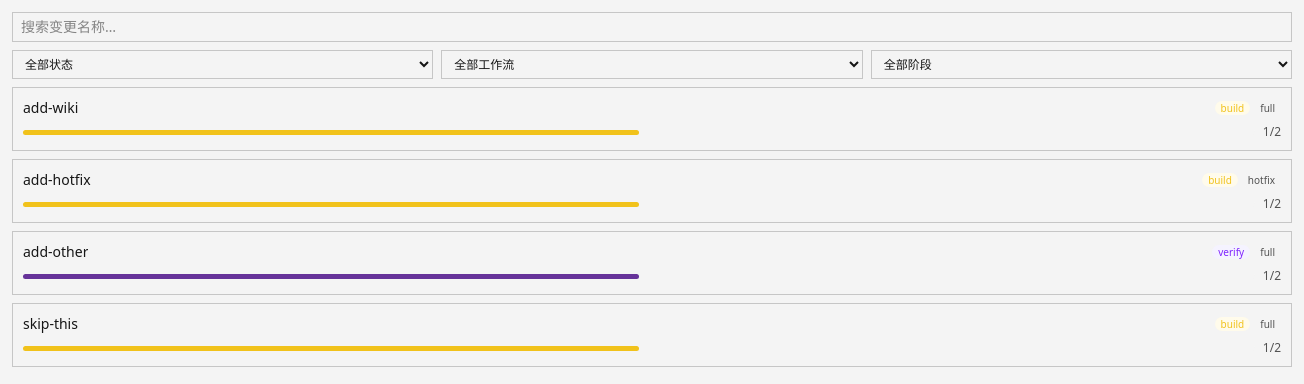
ChangeExplorer › applies search + workflow + phase filters as an intersection
In the field with placeholder "搜索变更名称…": {"x": 652, "y": 27} [12, 12, 1292, 42], type "add"
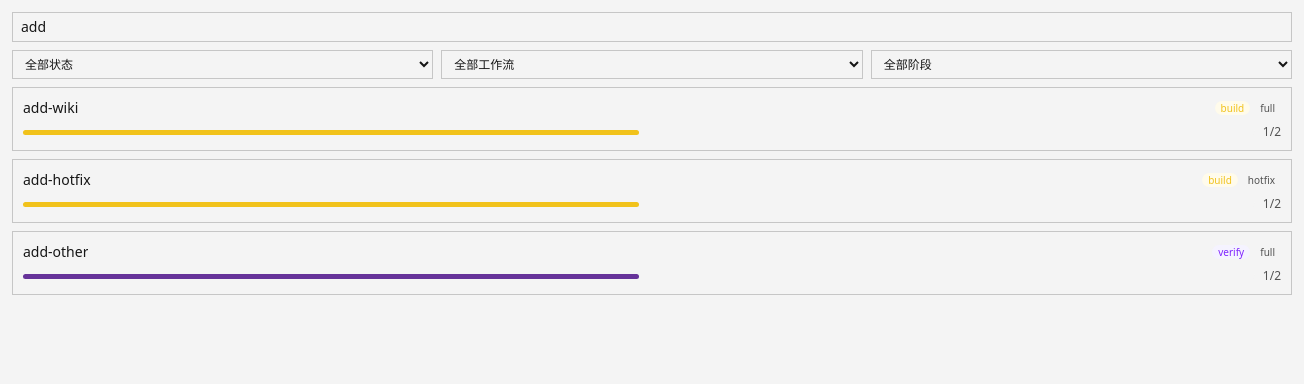
Select "full" in the dropdown named "工作流": {"x": 652, "y": 64} [441, 50, 863, 79]
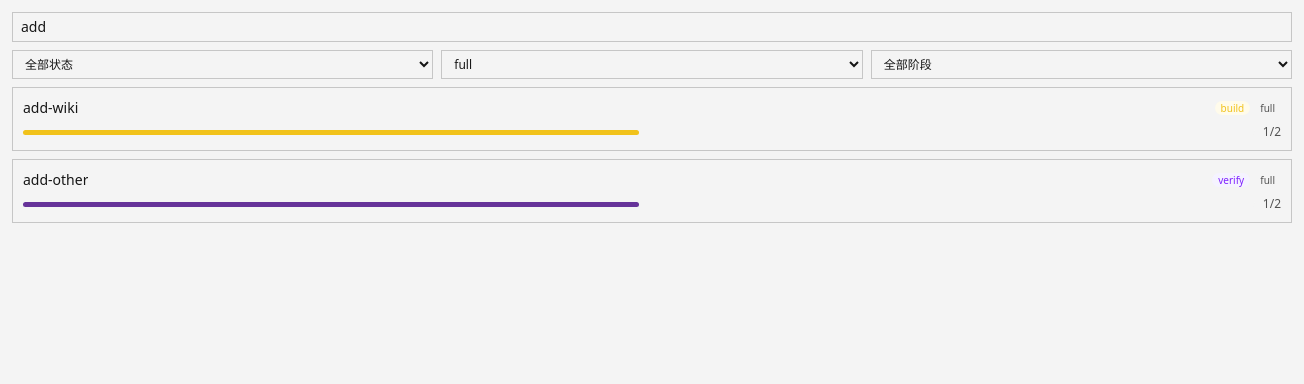
Select "build" in the dropdown named "阶段": {"x": 1081, "y": 64} [871, 50, 1292, 79]
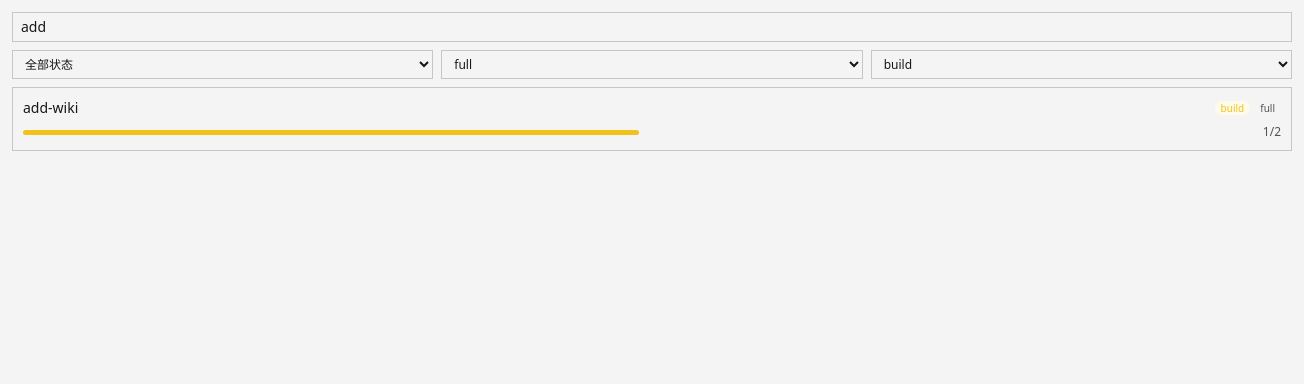
Expected: the text "add-wiki" is shown, [23, 98, 78, 118]
Expected: the text "add-other" is gone
